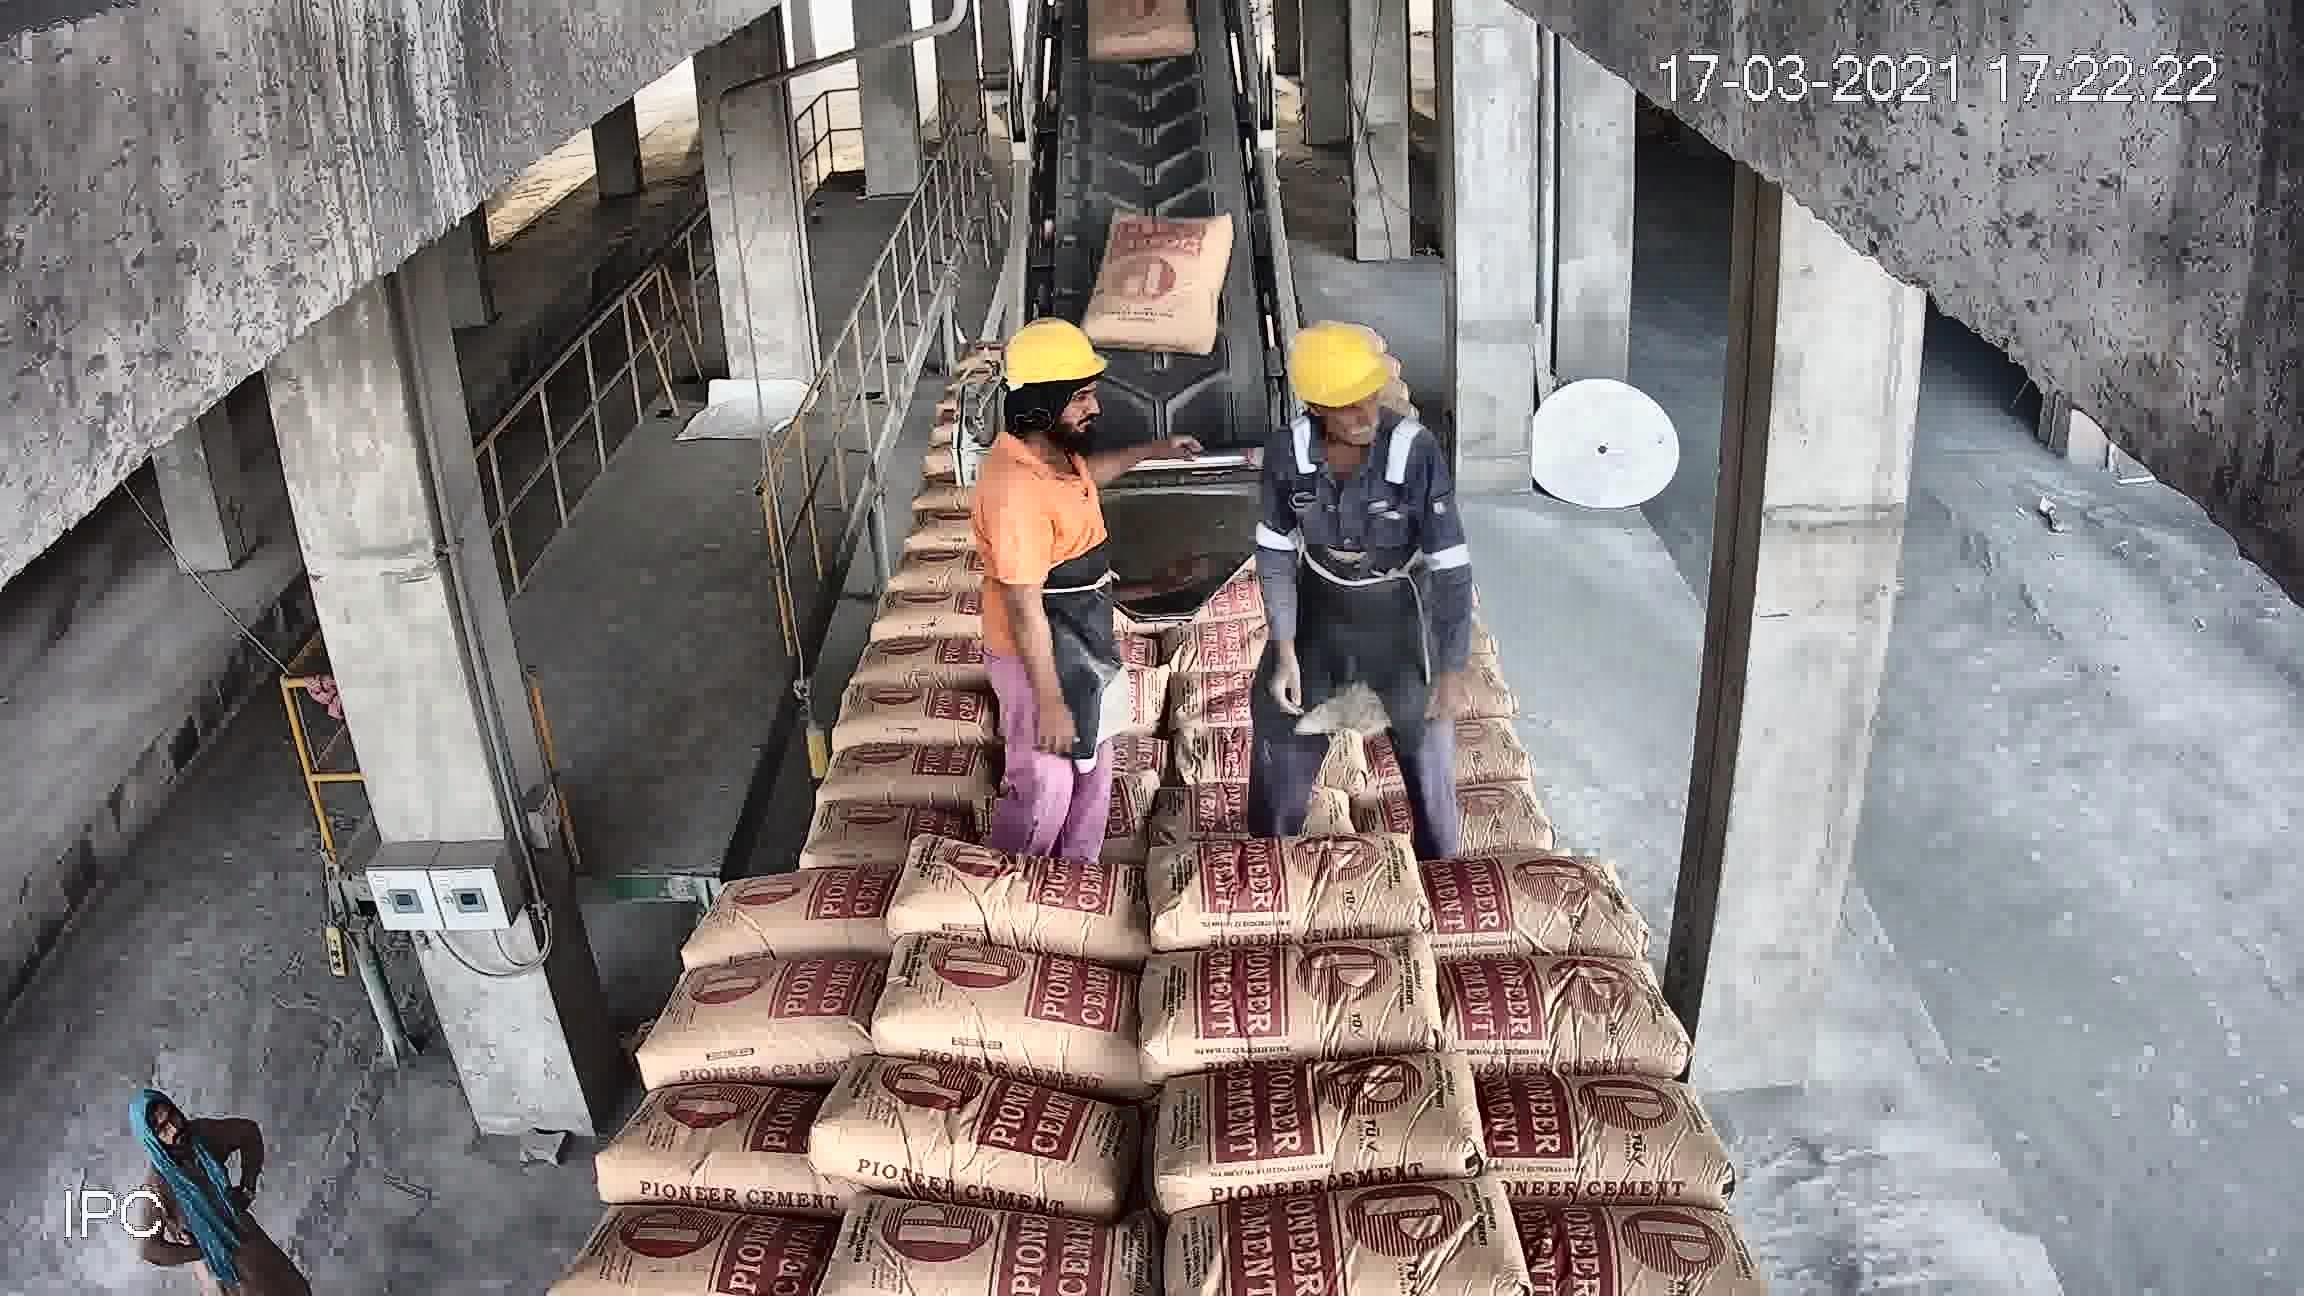bag: (1098, 168, 1206, 290)
bag_h: (1168, 1025, 1480, 1190), (1128, 929, 1443, 1057), (1173, 1177, 1510, 1296), (785, 1089, 1135, 1193), (1161, 821, 1415, 954), (642, 942, 880, 1078), (864, 942, 1135, 1060), (589, 1078, 823, 1201), (1431, 946, 1662, 1070), (1468, 1052, 1695, 1176), (873, 847, 1152, 945), (1131, 728, 1396, 824), (1478, 1196, 1755, 1282), (828, 1226, 1146, 1296), (722, 771, 924, 880), (1413, 734, 1592, 856), (1408, 859, 1624, 954), (739, 692, 942, 791), (692, 862, 902, 957), (560, 1220, 836, 1291), (1119, 665, 1389, 736), (896, 772, 1135, 840), (910, 693, 1139, 760), (1396, 688, 1559, 775), (824, 623, 1005, 679), (1071, 567, 1184, 650), (869, 585, 1021, 631), (1161, 510, 1241, 592), (1176, 563, 1256, 638), (869, 510, 994, 557), (880, 552, 983, 601)
belt: (1019, 17, 1287, 456)
